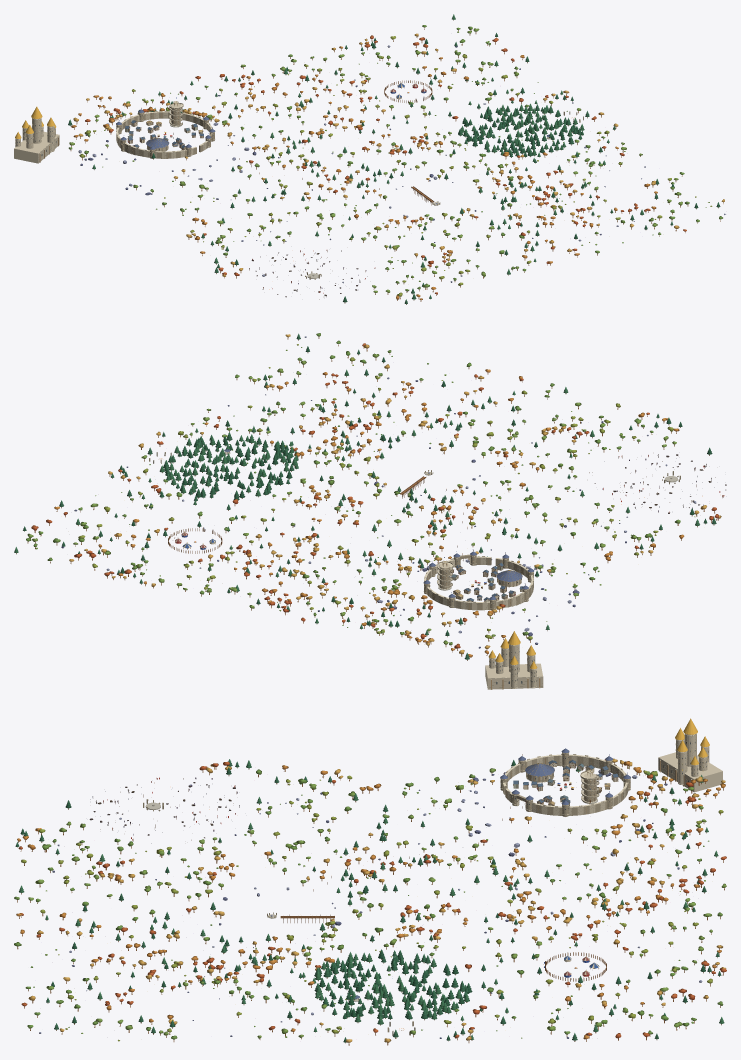
Rendered from world_britain.visual.glb.
3 views of the same model, one above another, from view 1: azimuth 30°, elevation 25°; view 2: azimuth 150°, elevation 25°; view 3: azimuth 270°, elevation 25° (orthographic). The views are drawn at different scales.
Parts seen in each view (by area): view 1: Trees_Leaves, Britain_Physical_Limestone, Trees_Trunks_Oak, Britain_Physical_Oak, Britain_Physical_Slate, Rocks_Sandstone; view 2: Trees_Leaves, Britain_Physical_Limestone, Trees_Trunks_Oak, Britain_Physical_Oak, Britain_Physical_Slate, Rocks_Sandstone; view 3: Trees_Leaves, Britain_Physical_Limestone, Trees_Trunks_Oak, Britain_Physical_Oak, Britain_Physical_Slate, Rocks_Sandstone, Britain_Physical_Bronze.
Boxes of the visible parts, x1,y1,x2,y2 form: Trees_Leaves: (68, 14, 724, 303); Britain_Physical_Limestone: (14, 92, 583, 279); Trees_Trunks_Oak: (70, 20, 723, 304); Britain_Physical_Oak: (124, 80, 434, 299); Britain_Physical_Slate: (116, 109, 549, 149); Rocks_Sandstone: (78, 45, 725, 291); Trees_Leaves: (14, 333, 721, 659); Britain_Physical_Limestone: (149, 451, 680, 689); Trees_Trunks_Oak: (16, 337, 718, 660); Britain_Physical_Oak: (168, 455, 723, 601); Britain_Physical_Slate: (224, 449, 534, 601); Rocks_Sandstone: (61, 336, 696, 648); Trees_Leaves: (14, 758, 726, 1042); Britain_Physical_Limestone: (143, 733, 722, 1035); Trees_Trunks_Oak: (17, 762, 724, 1045); Britain_Physical_Oak: (100, 754, 618, 981); Britain_Physical_Slate: (354, 748, 630, 998); Rocks_Sandstone: (39, 767, 702, 1038); Britain_Physical_Bronze: (132, 718, 709, 917).
Size of the model in its own units: 690 by 80.74 by 695.
